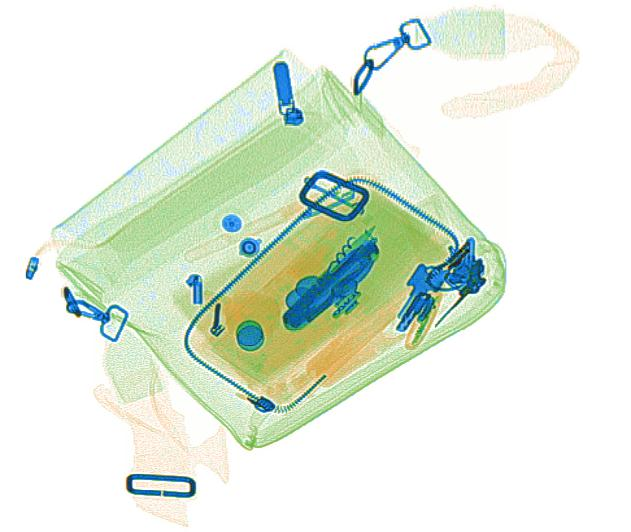knife: (281, 227, 382, 333)
